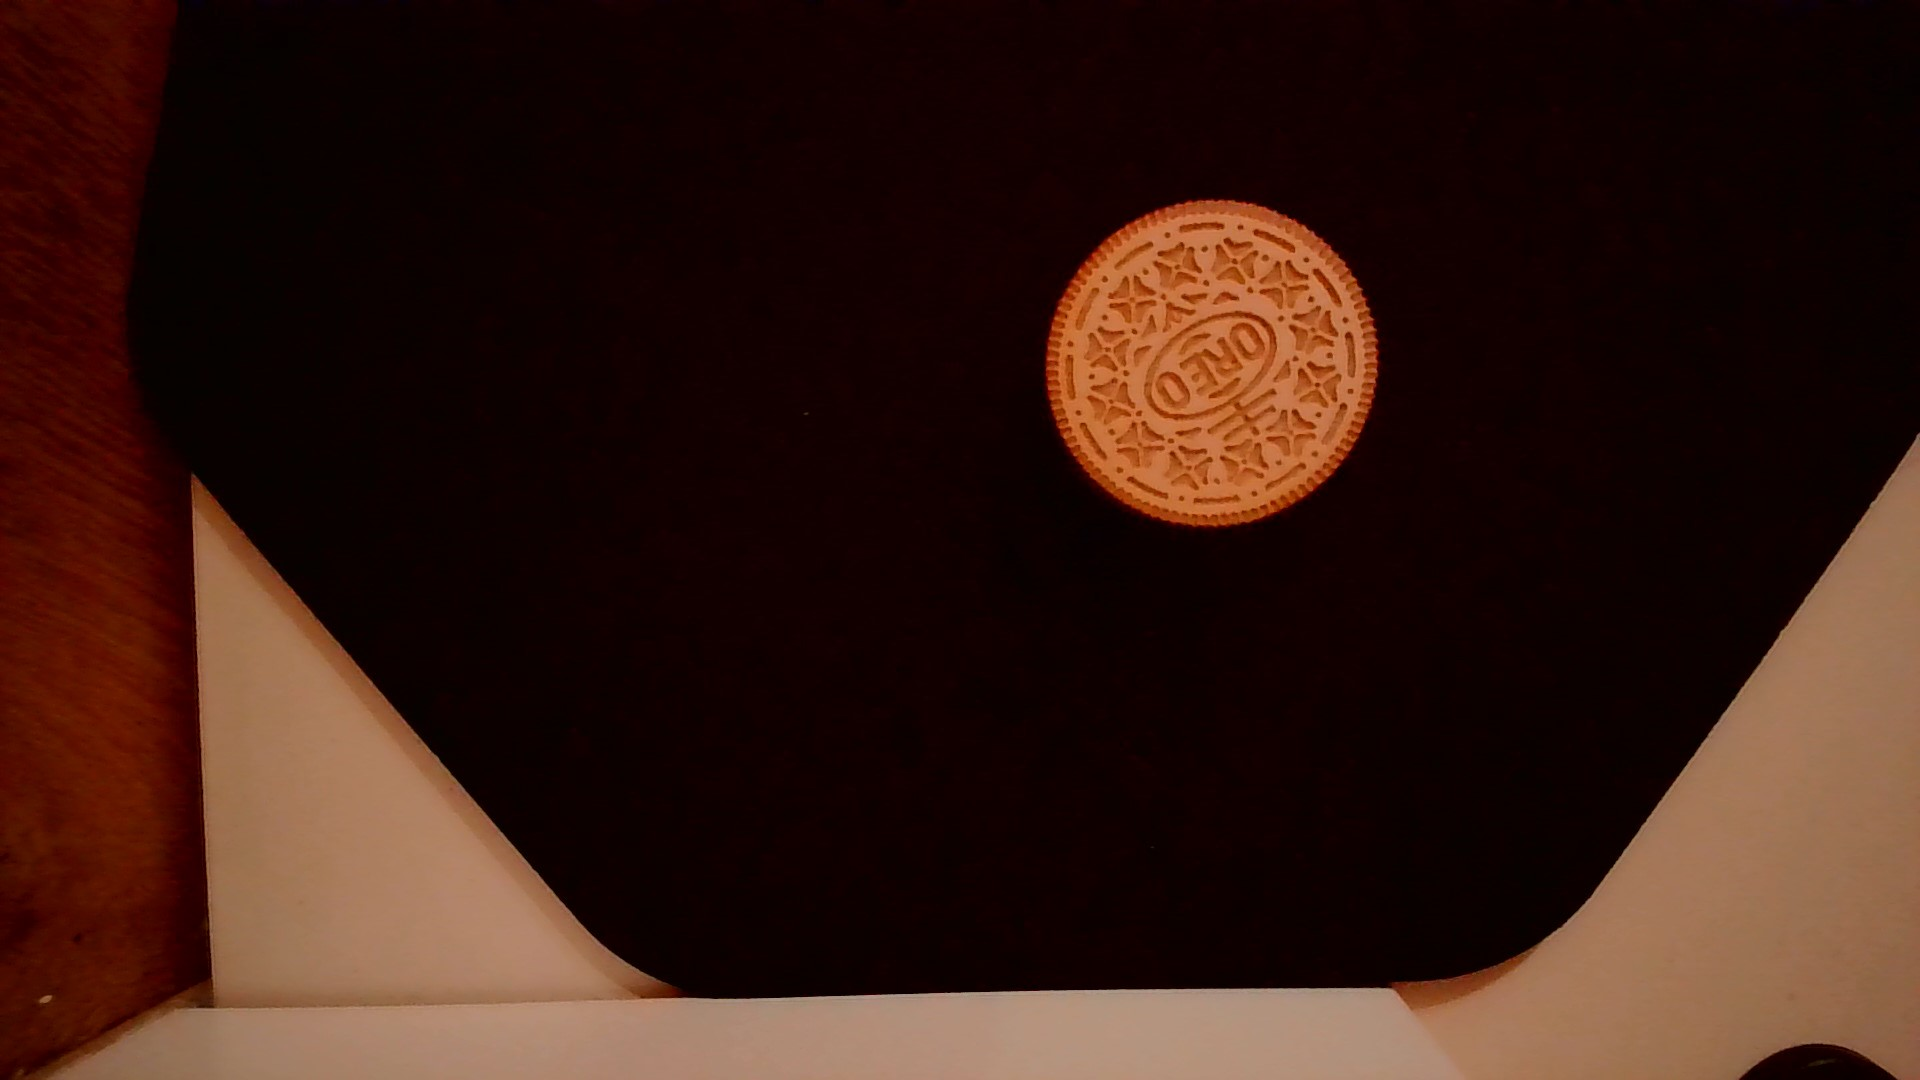Oréo: (1034, 194, 1389, 545)
